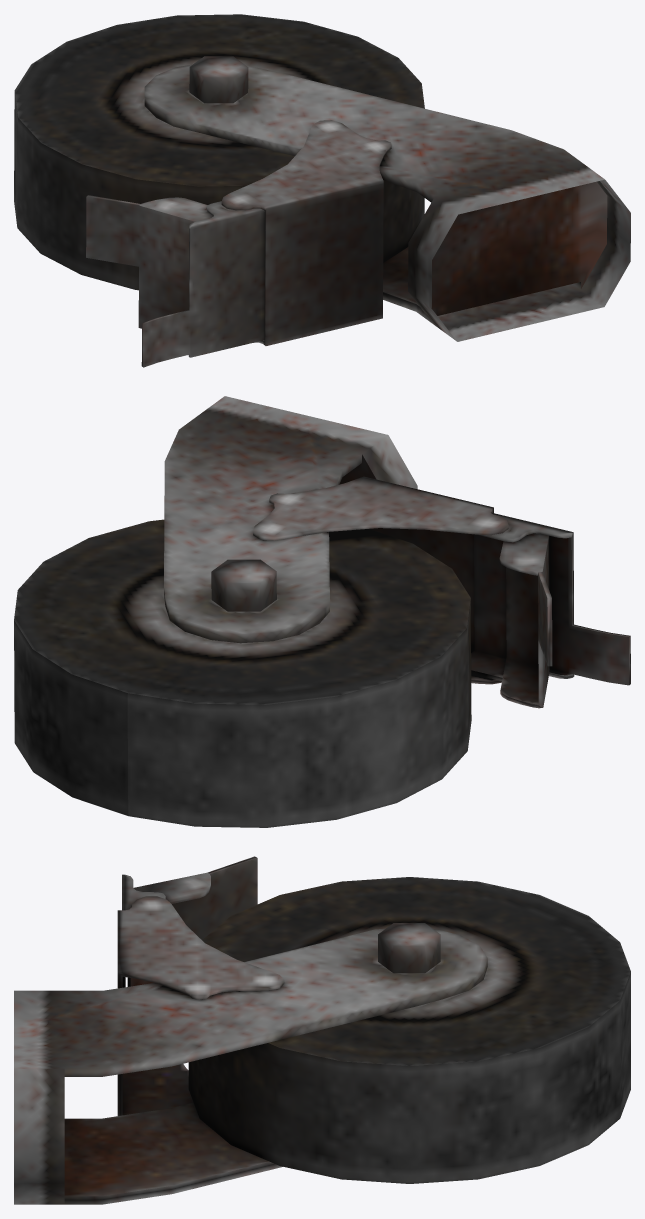
The model's file is Tool_Cabinet_Wheel_Back_Lock_low.obj.
3 renders of one model, top to bottom at view 1: azimuth 30°, elevation 25°; view 2: azimuth 150°, elevation 25°; view 3: azimuth 270°, elevation 25°, orthographic. The views are drawn at different scales.
Bounding box in the file's own units: 0.1248 × 0.0485 × 0.1418.
1 material, 1 textured.
